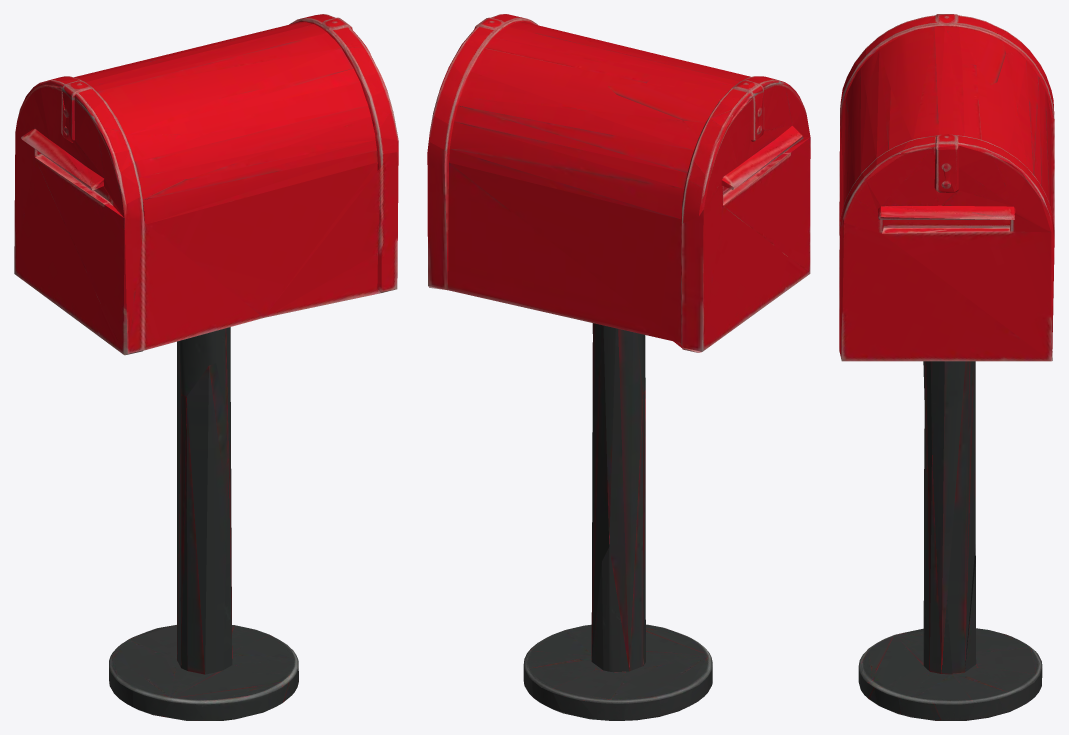
Rendered from mailbox.glb.
3 renders of one model, left to right at view 1: azimuth 30°, elevation 25°; view 2: azimuth 150°, elevation 25°; view 3: azimuth 270°, elevation 25°, orthographic. The views are drawn at different scales.
Size of the model in its own units: 0.6502 by 1.3 by 0.4173.
Materials: 1 (1 with a texture image).
